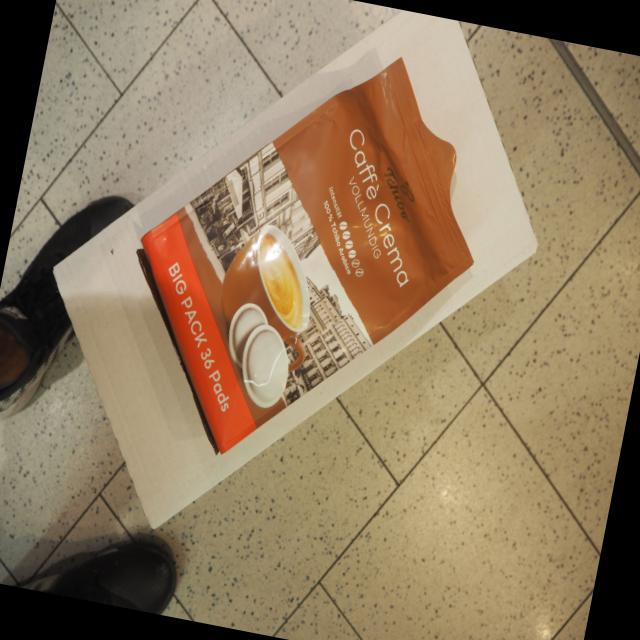CC Vollmundig: (118, 33, 511, 470)
